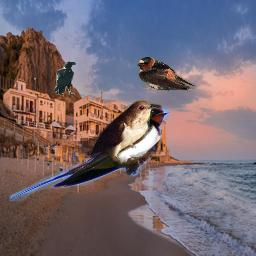Crow: (53, 61, 76, 95)
Cuckoo: (78, 100, 162, 161)
Swallow: (8, 105, 170, 201), (137, 56, 196, 91)
